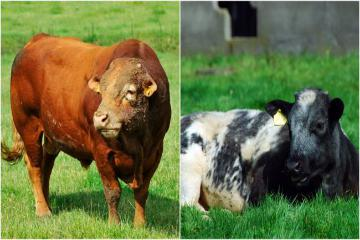cow: (8, 28, 173, 210), (187, 89, 351, 206)
